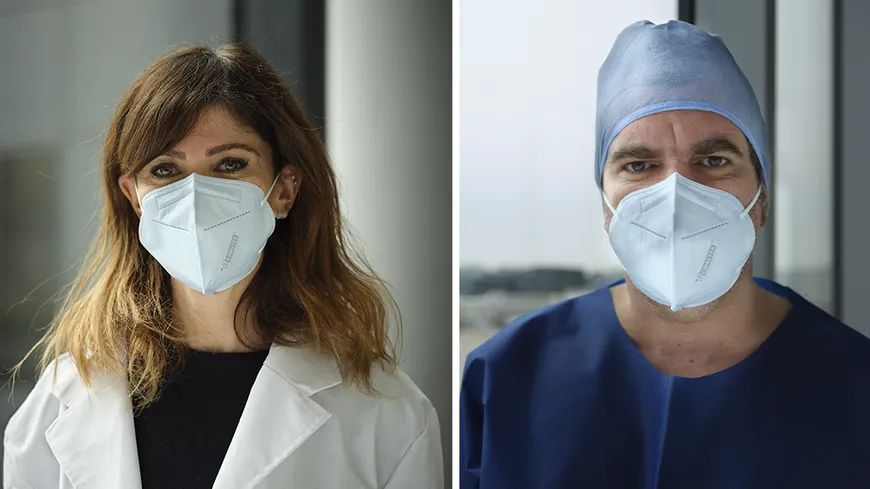with_mask: (610, 91, 763, 311), (123, 99, 282, 300)
